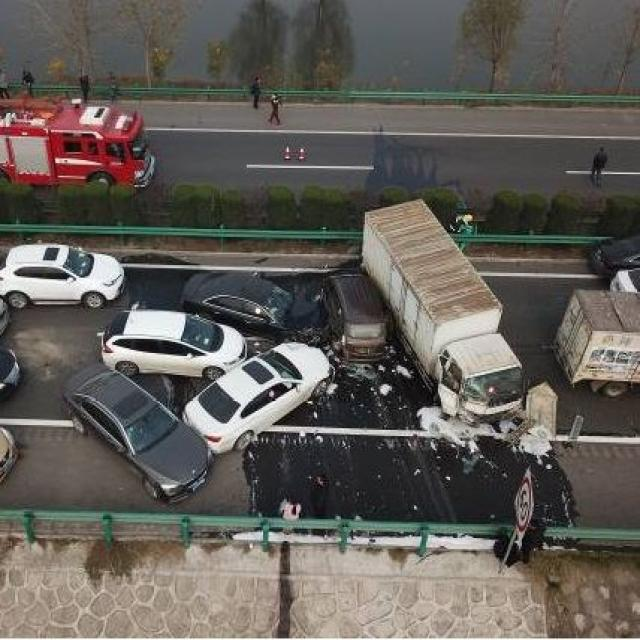traffic_incident: (181, 179, 537, 428)
